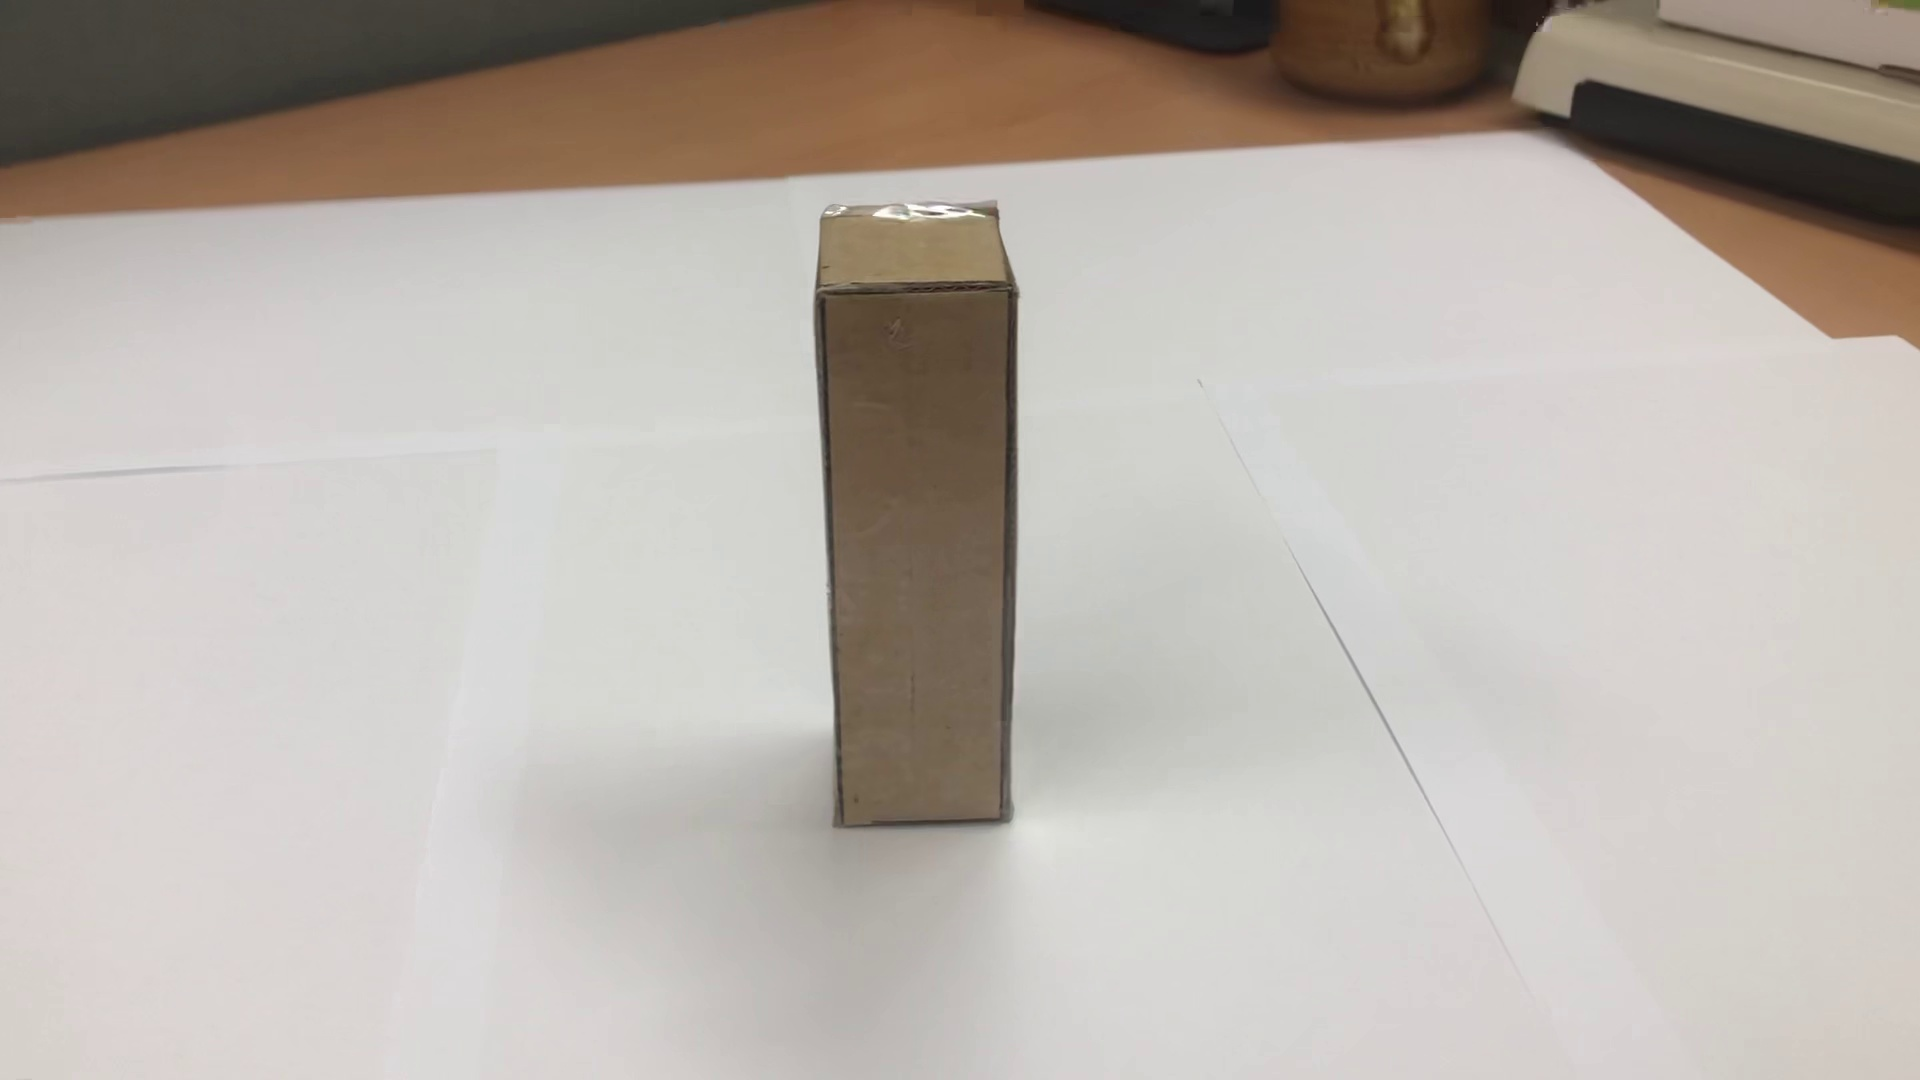box: (785, 185, 1084, 877)
